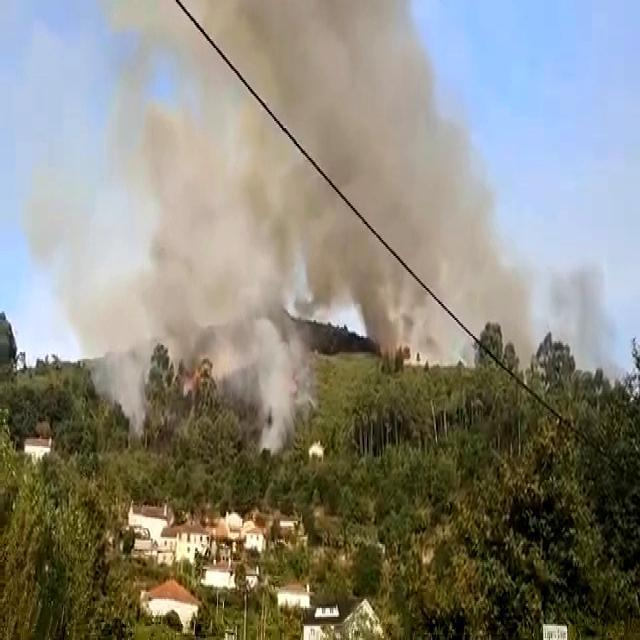Smoke: (45, 0, 439, 453), (356, 65, 532, 382)
